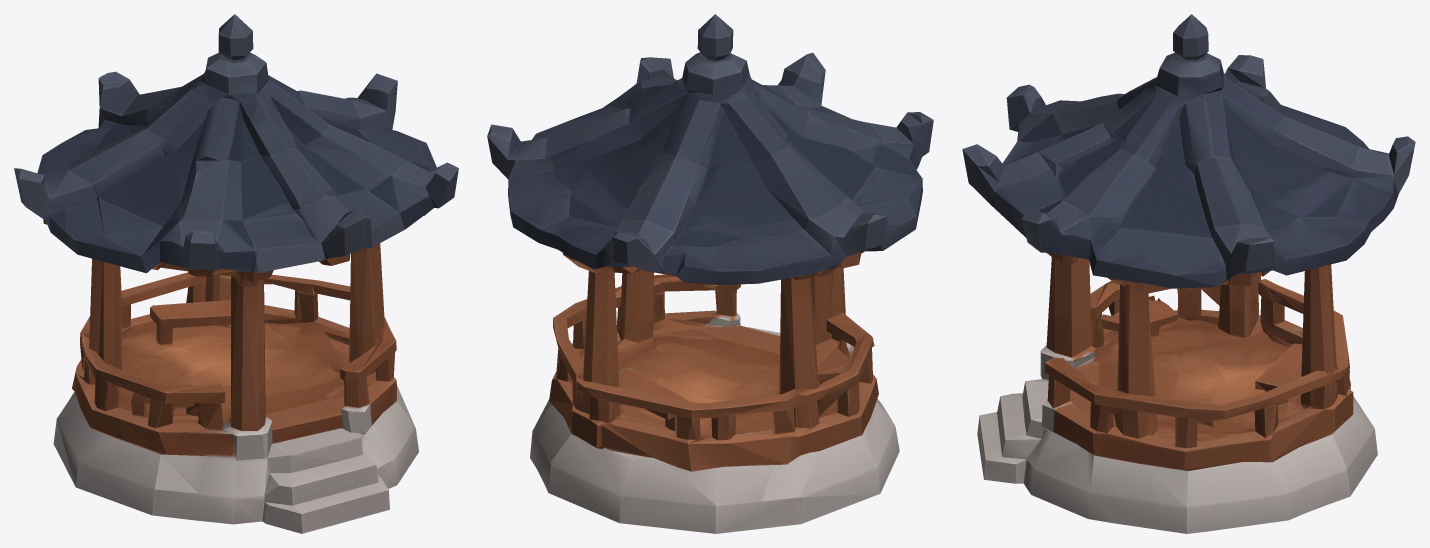
The model's file is pavilion.glb.
3 views of the same model, side by side, from view 1: azimuth 30°, elevation 25°; view 2: azimuth 150°, elevation 25°; view 3: azimuth 270°, elevation 25° (orthographic).
Bounding box in the file's own units: 1.76 × 1.9 × 1.77.
1 material, 1 textured.
